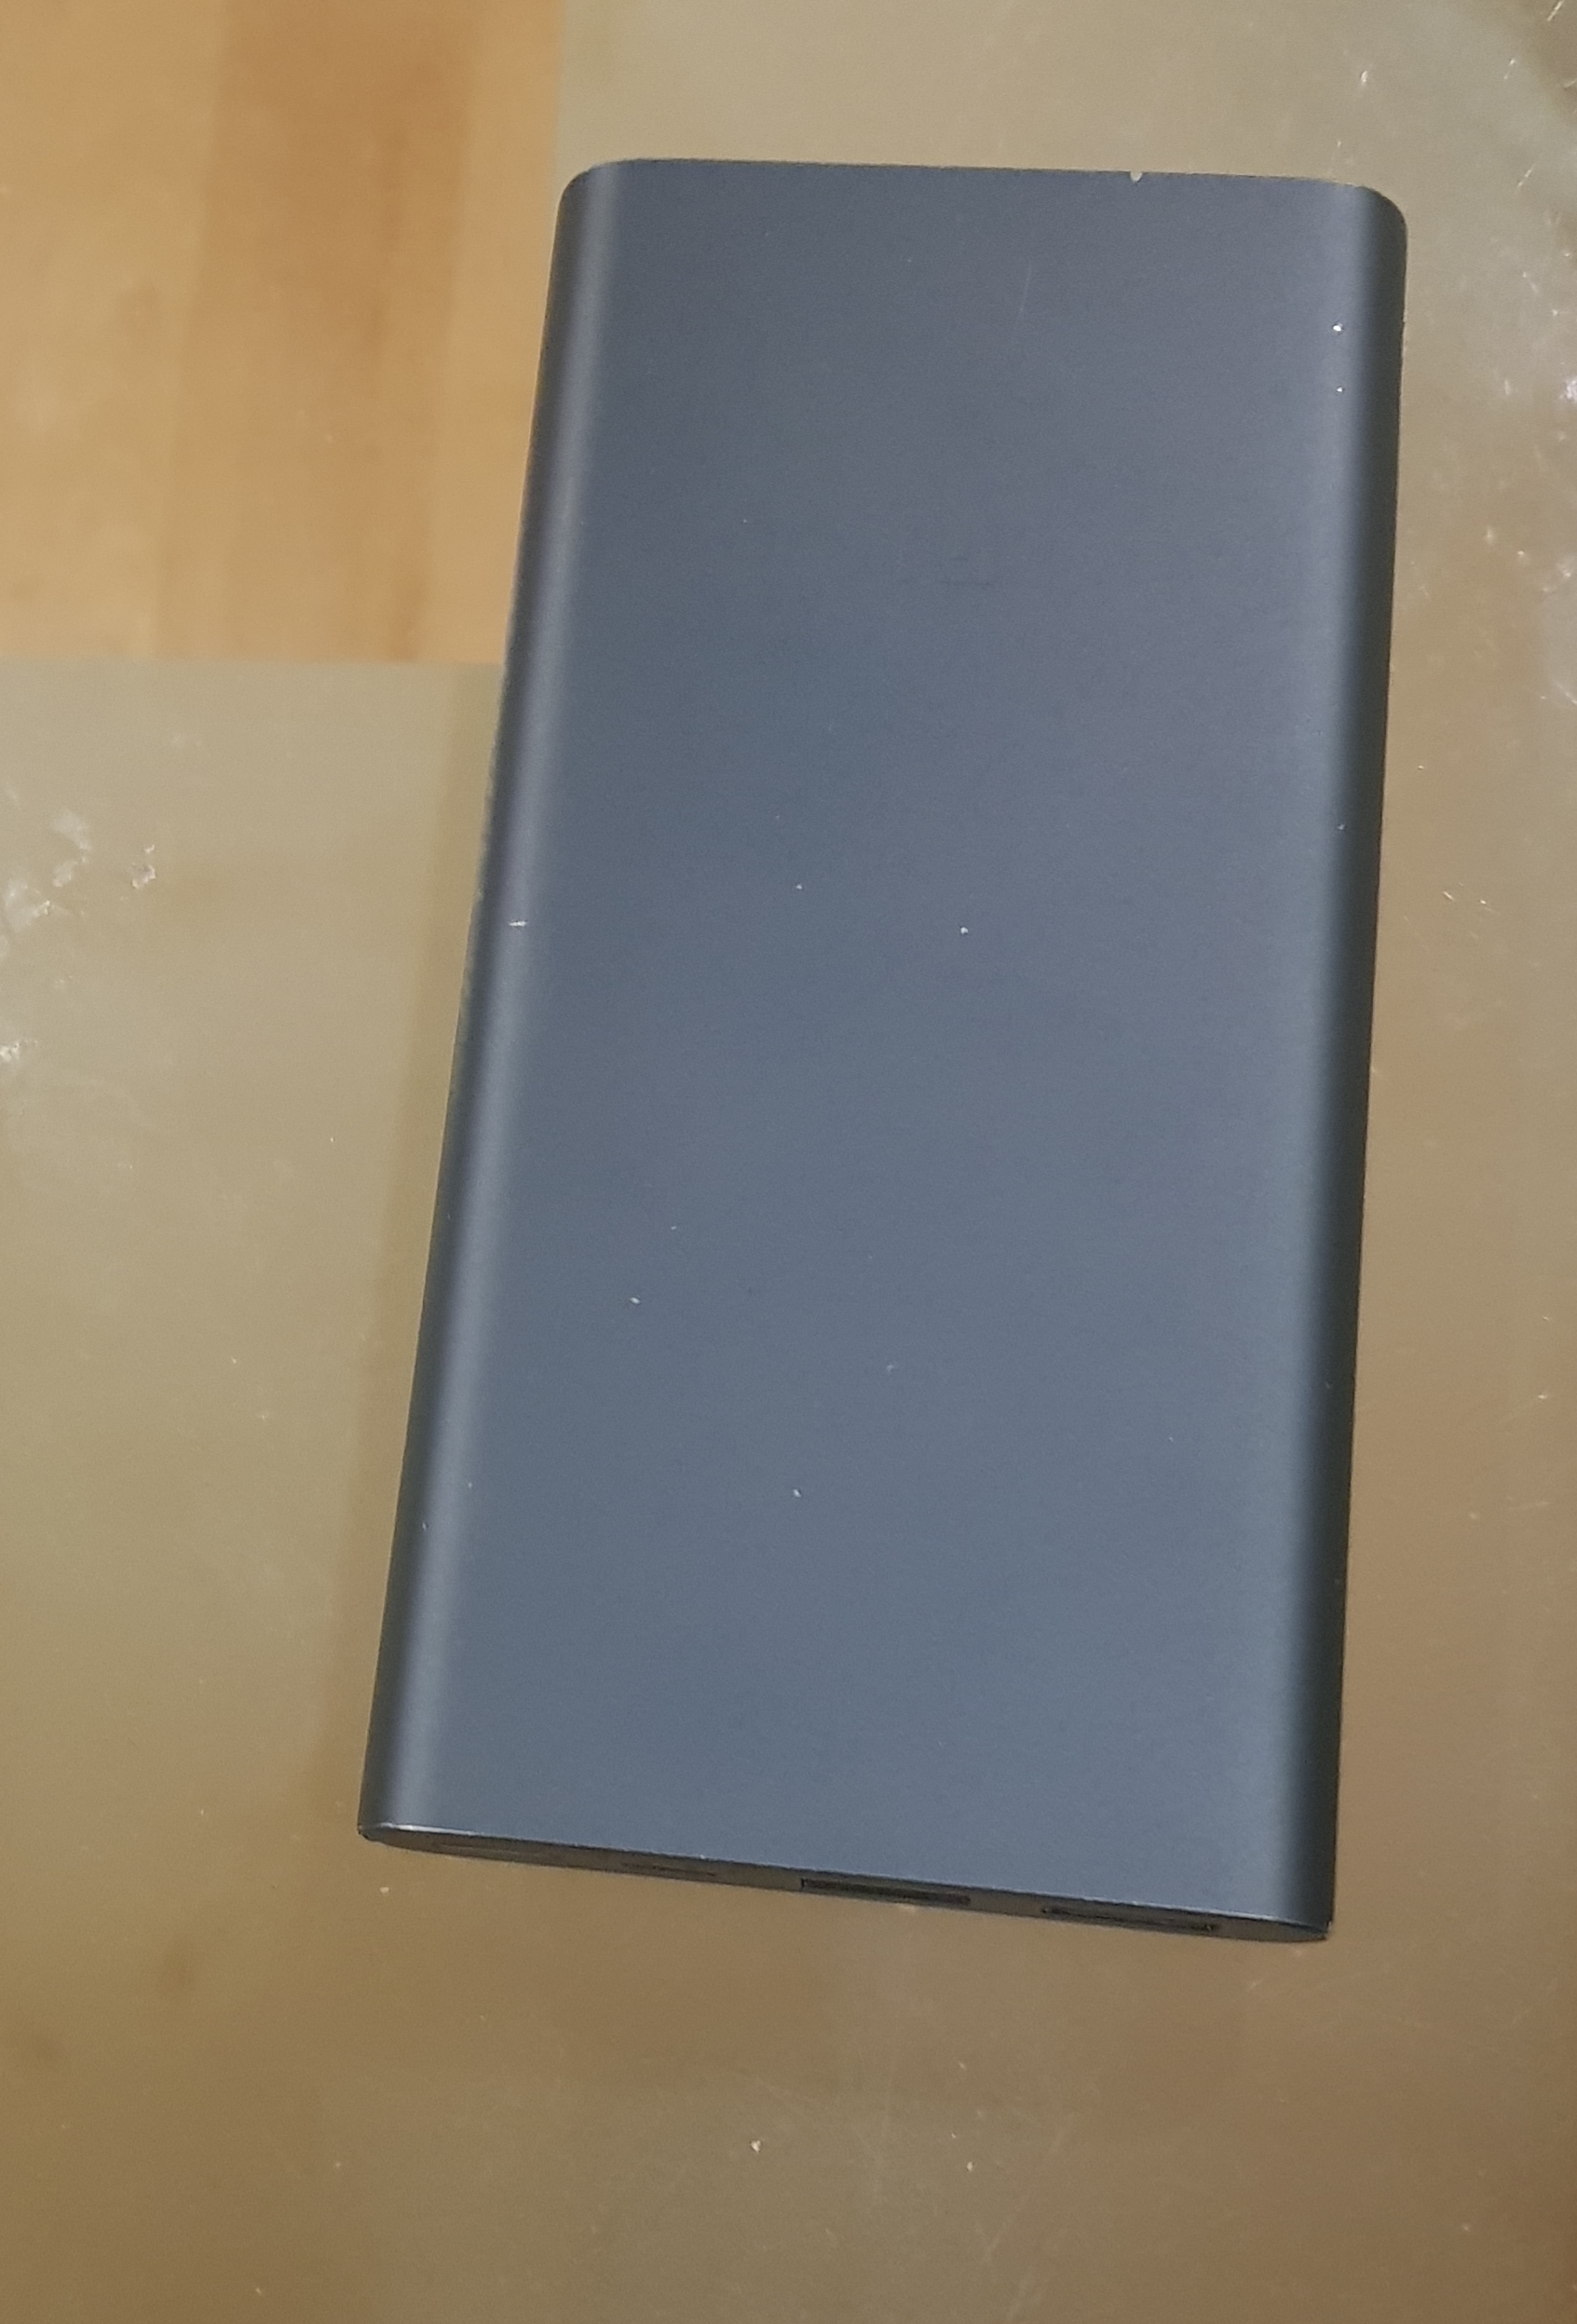Black: (359, 160, 1413, 1949)
